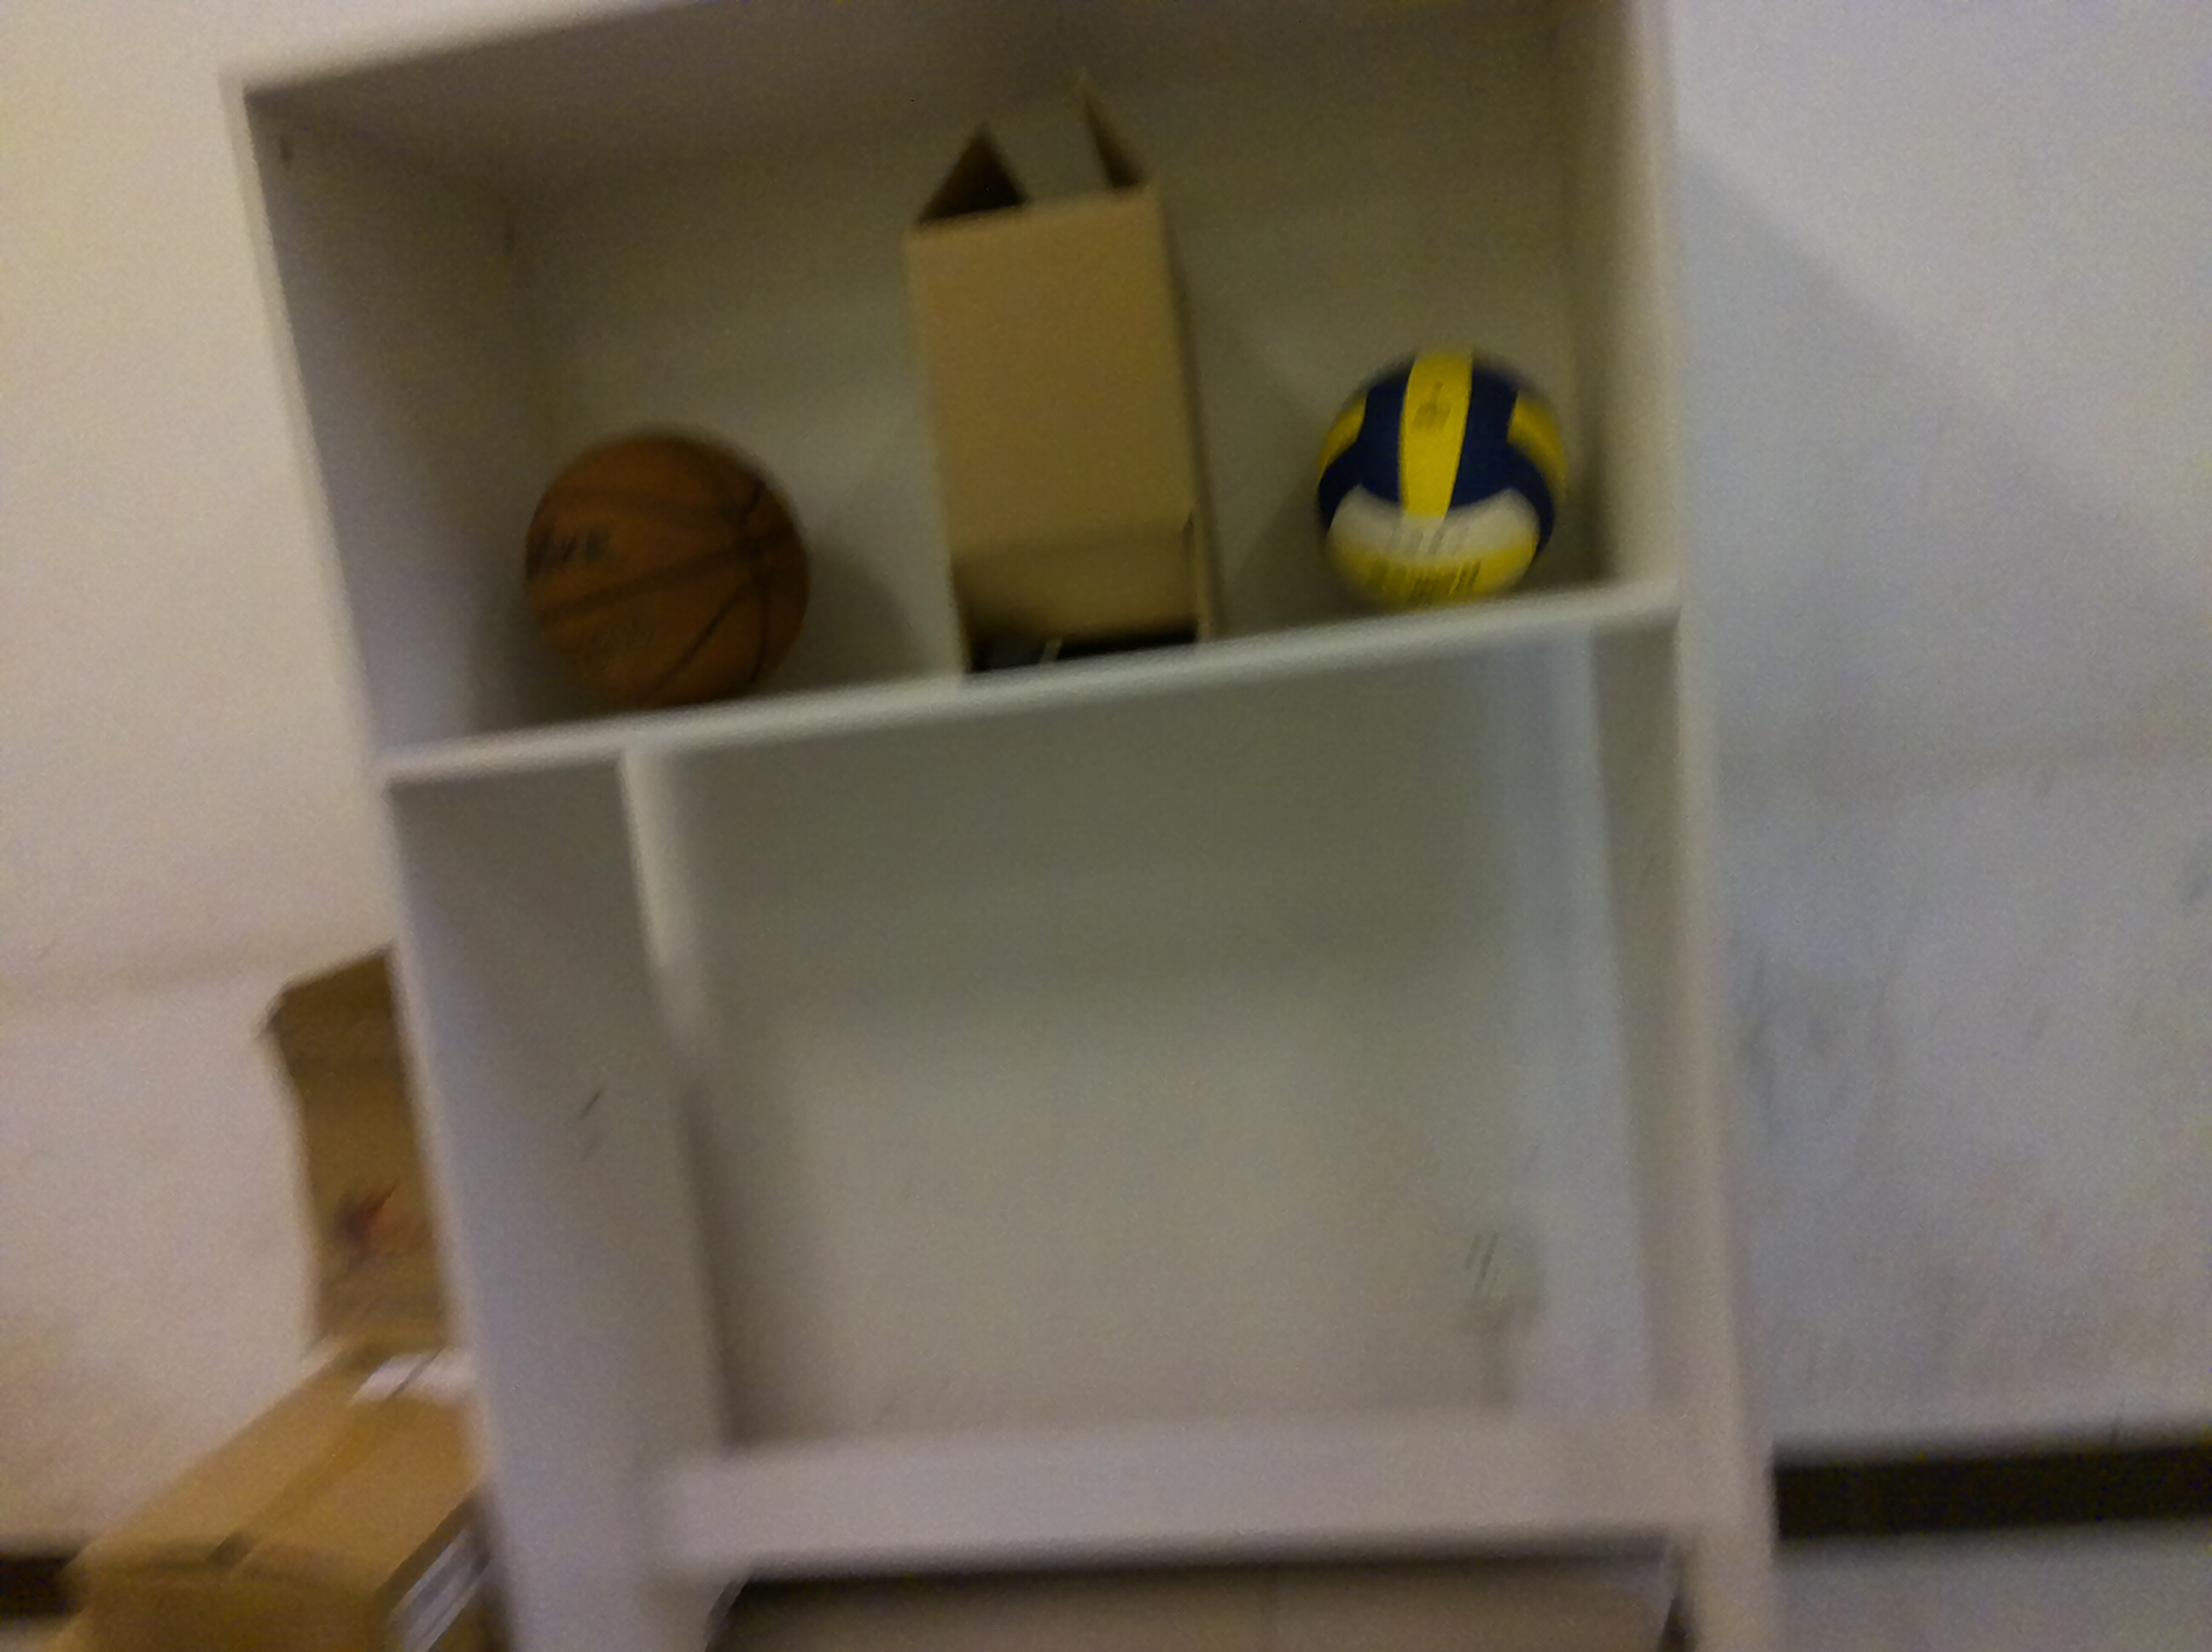basketball: (508, 416, 815, 710)
volleyball: (1303, 333, 1584, 607)
